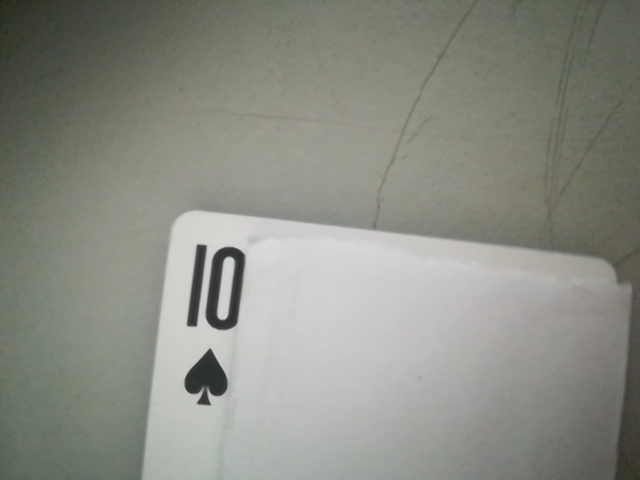ht 10: (167, 226, 260, 407)
